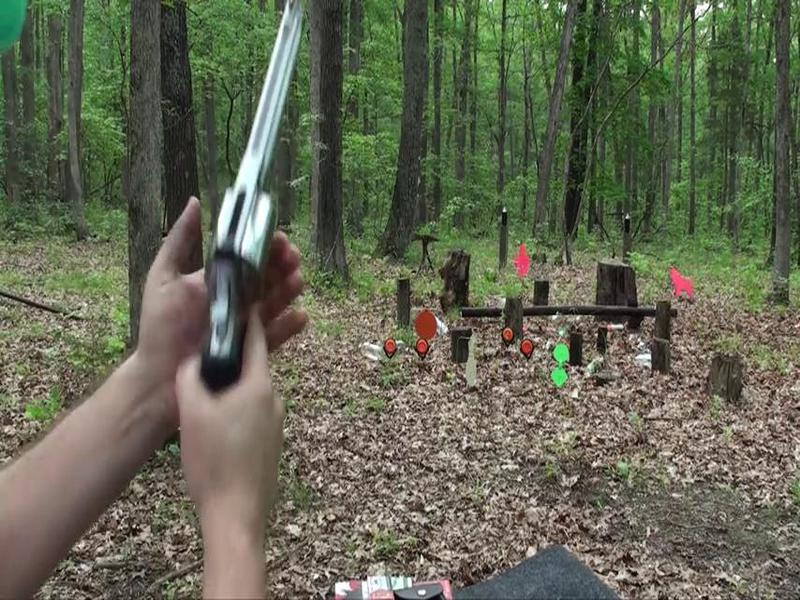Revolver: (171, 13, 346, 415)
